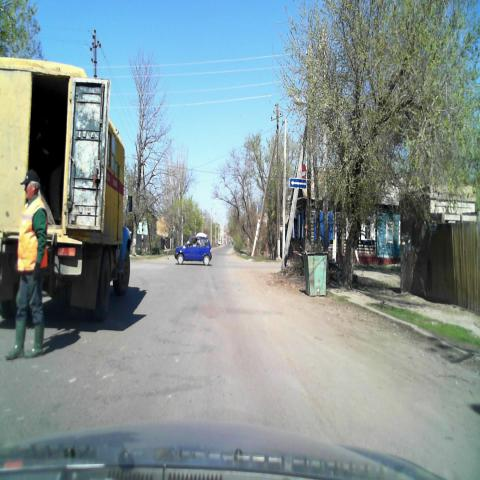5_7_2: (289, 178, 307, 188)
